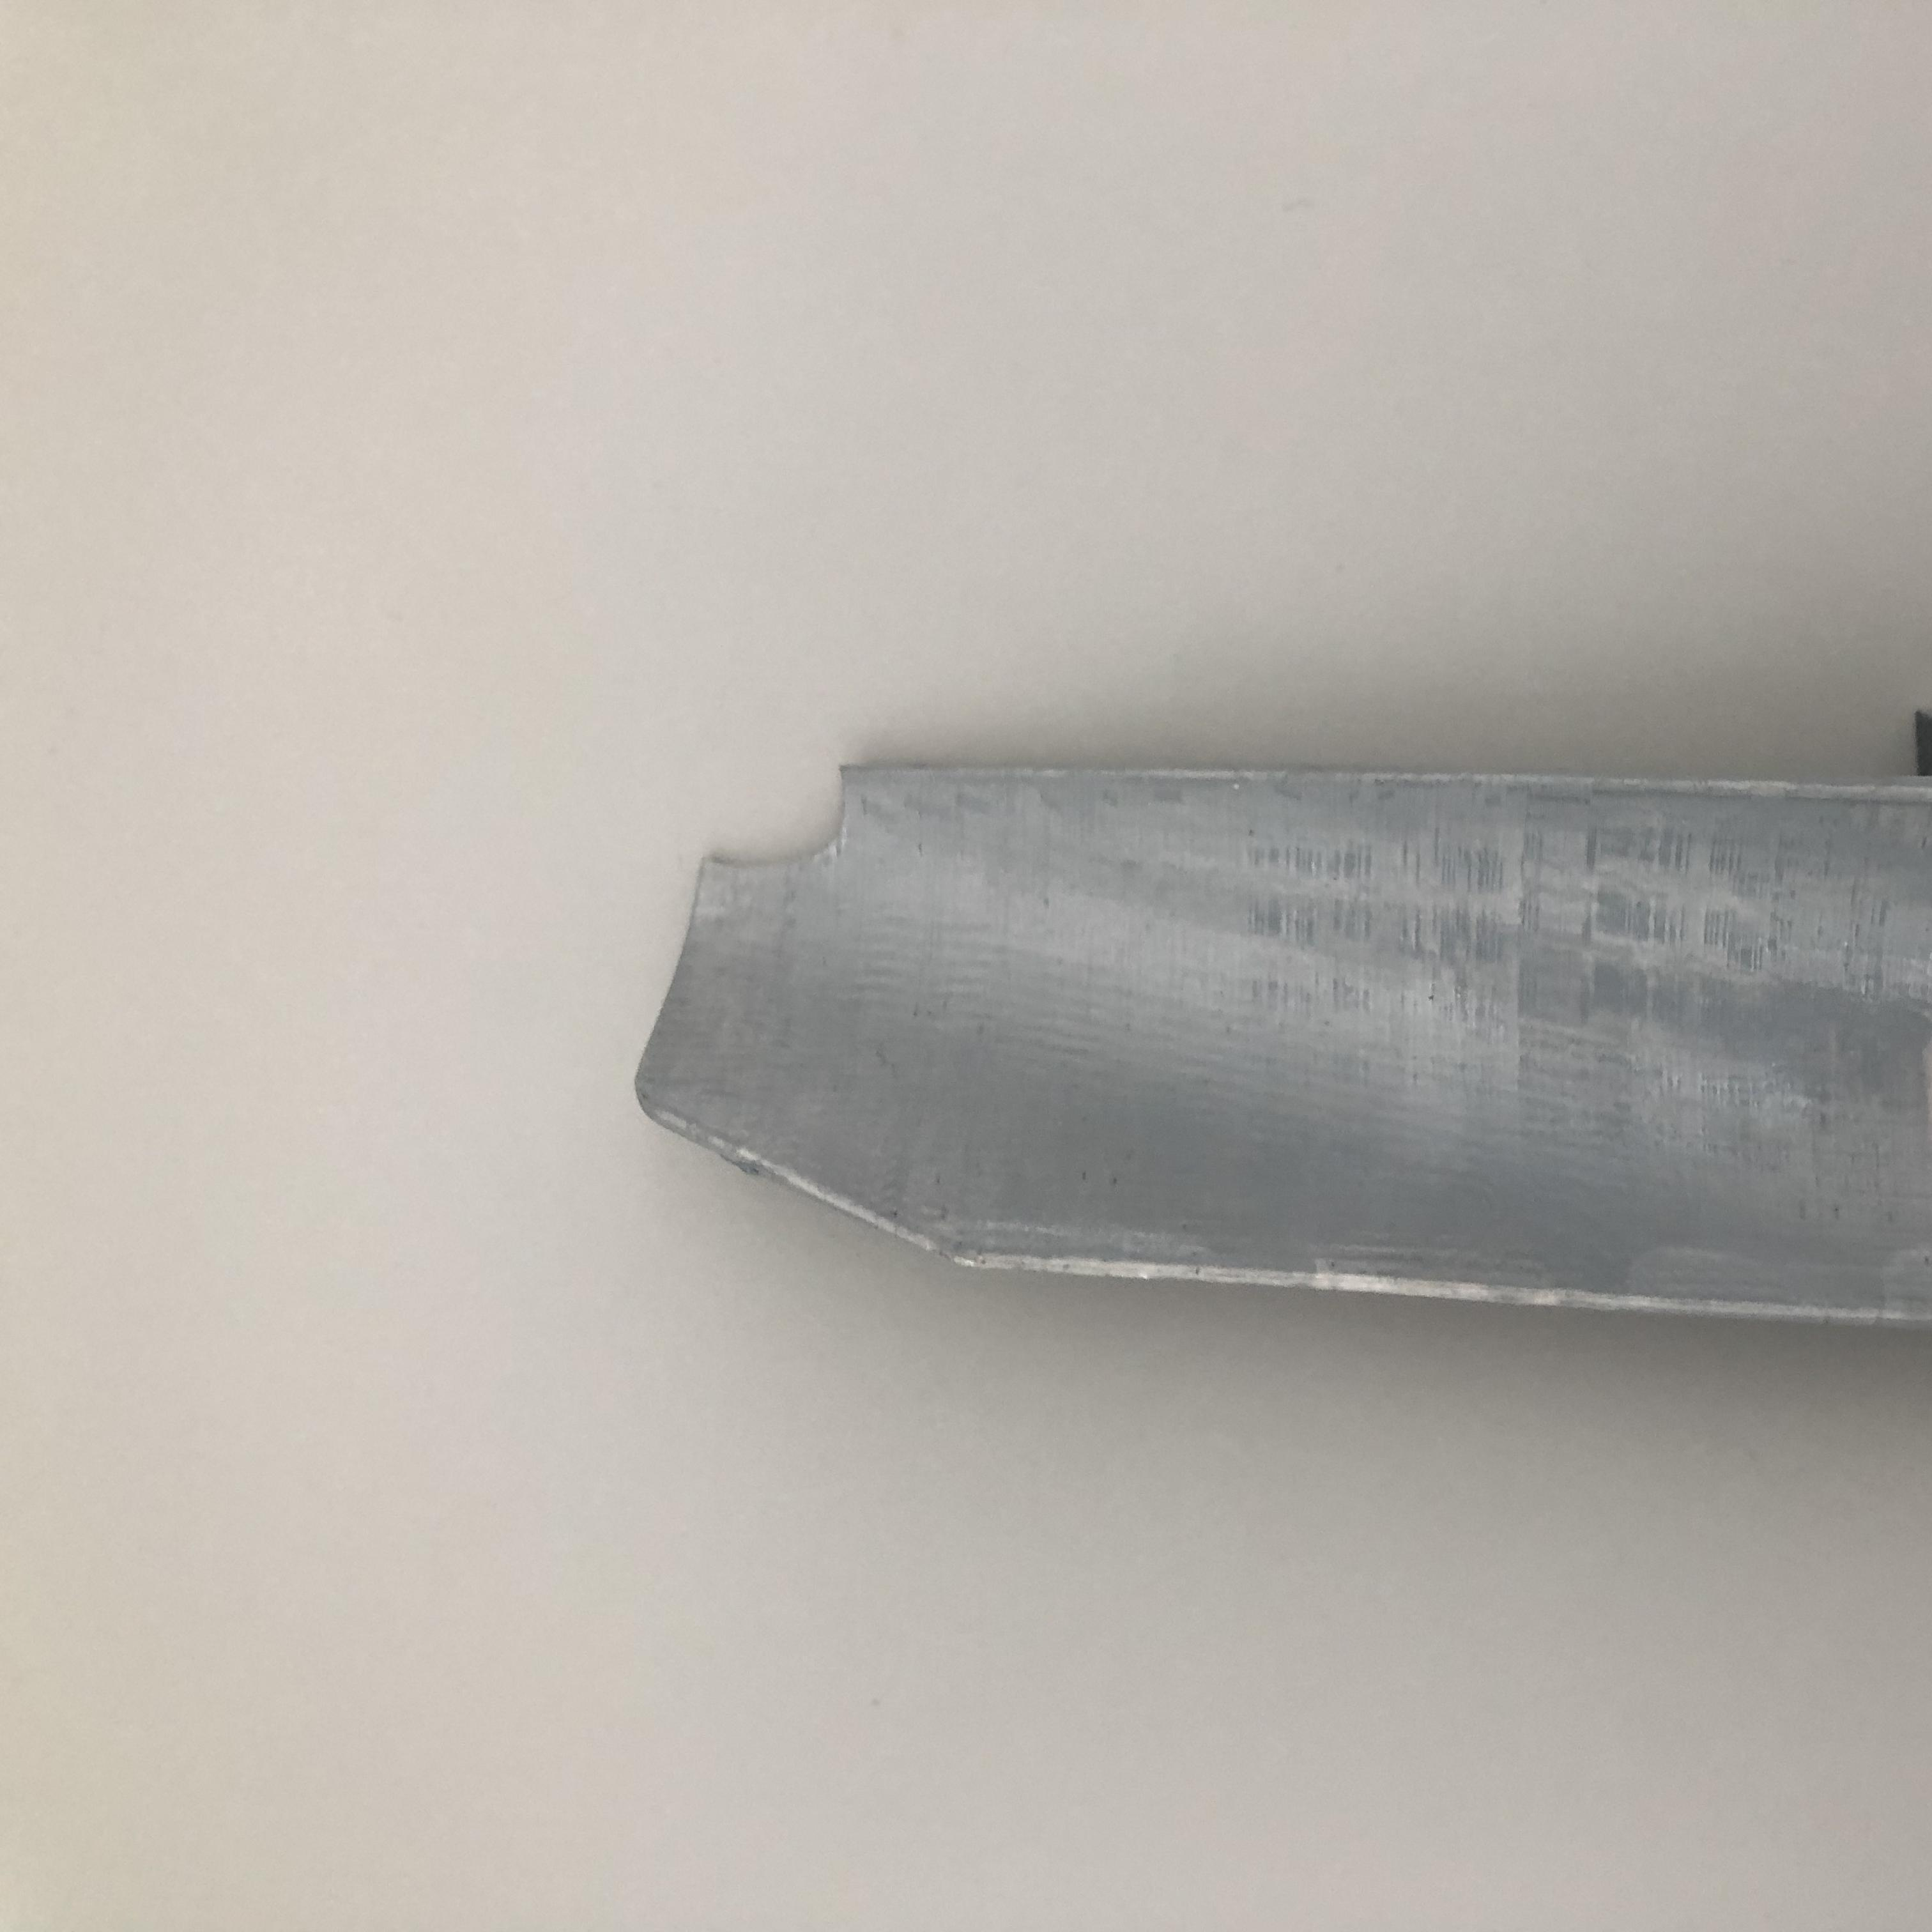fracture: (699, 764, 895, 879)
